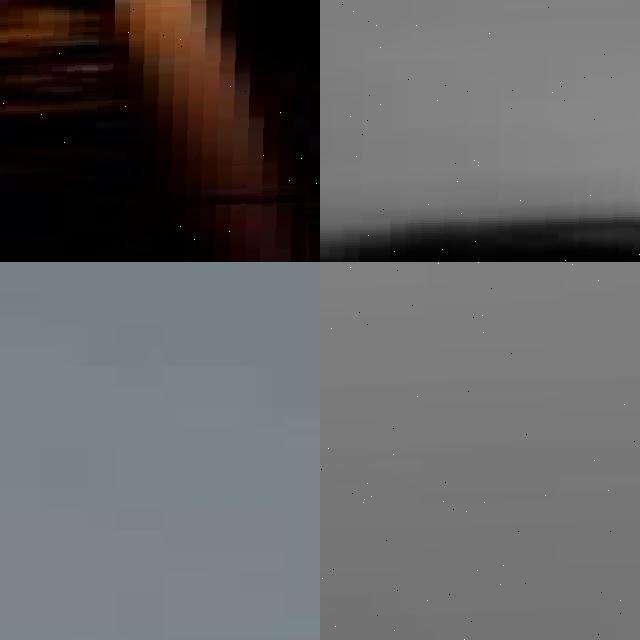street light: (320, 262, 640, 640), (0, 0, 320, 262), (320, 0, 640, 262)
